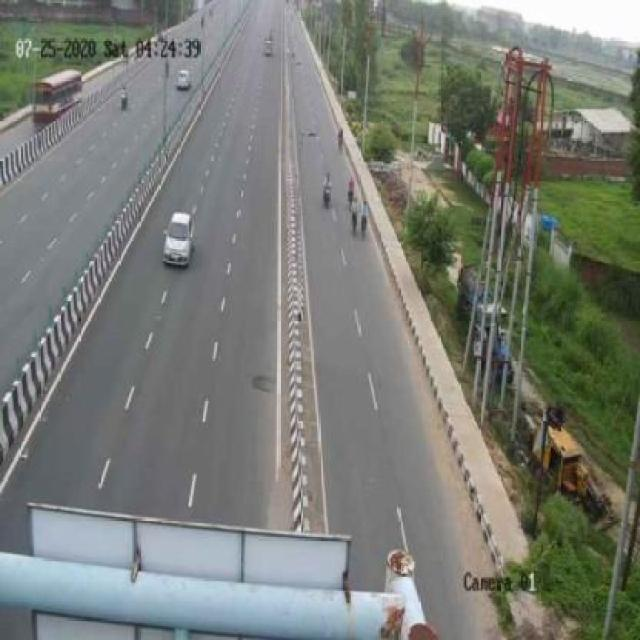car: (163, 212, 197, 270), (171, 66, 194, 92)
